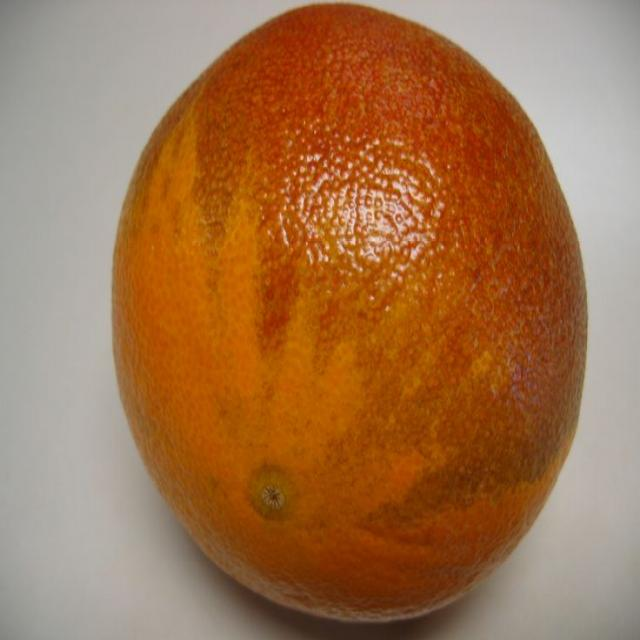Orange: (110, 7, 591, 629)
